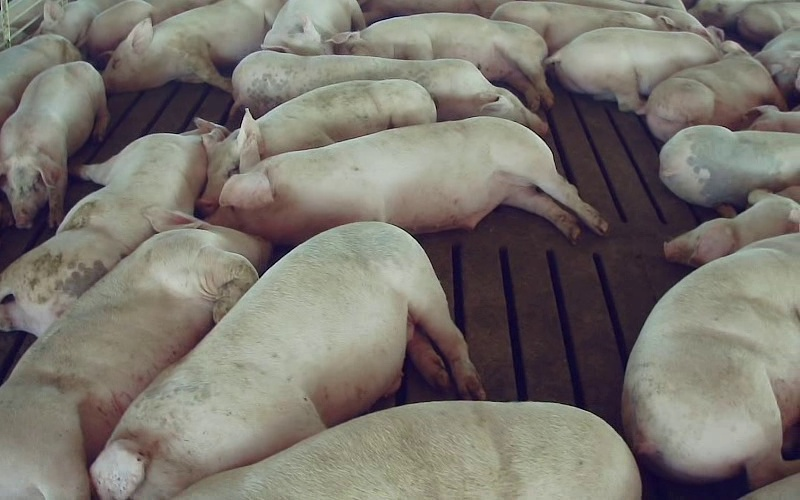pig: (0, 209, 269, 499), (212, 117, 607, 243), (177, 401, 640, 499), (622, 233, 799, 487), (0, 130, 206, 334), (195, 80, 436, 213), (232, 50, 547, 134), (333, 13, 553, 110), (0, 61, 108, 227), (545, 27, 723, 111), (643, 41, 786, 141), (659, 125, 799, 207), (664, 186, 799, 266), (491, 0, 673, 54), (85, 0, 215, 62), (0, 34, 81, 127), (262, 0, 365, 55)
